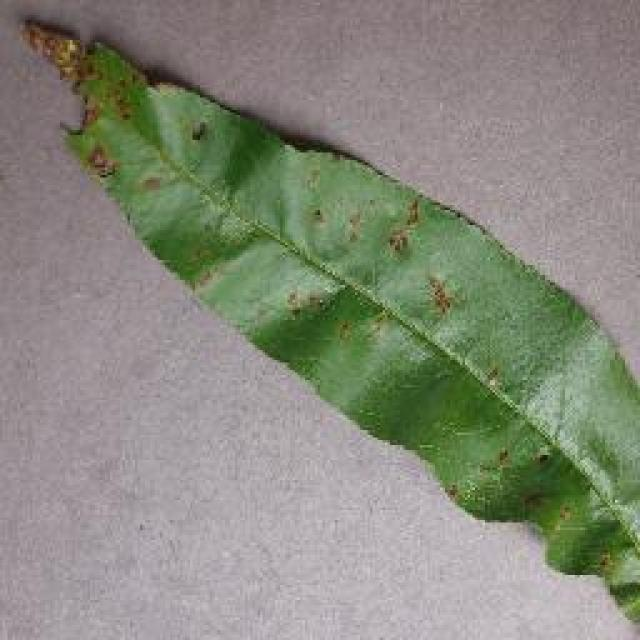Peach_Bacterial_Spot: (21, 33, 516, 377)
